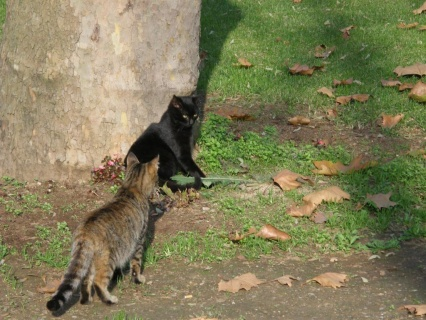Cat: (46, 150, 160, 313), (109, 86, 205, 190)
